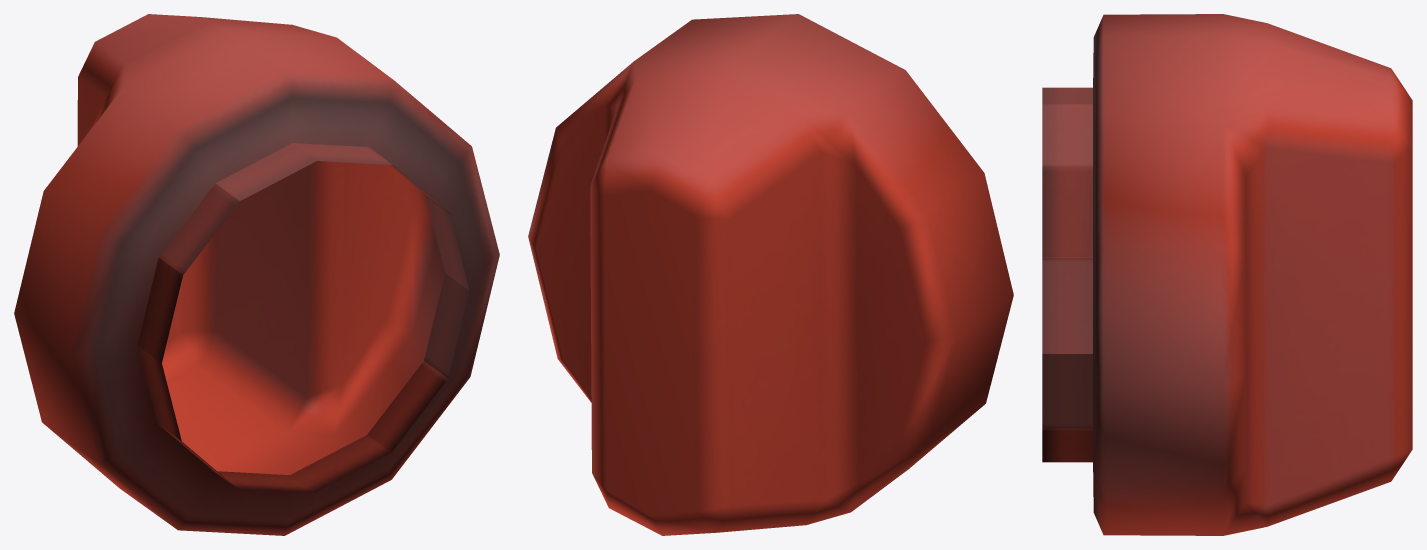
Rendered from JapaneseRestaurant_GrillHandle.fbx.
3 renders of one model, left to right at view 1: azimuth 30°, elevation 25°; view 2: azimuth 150°, elevation 25°; view 3: azimuth 270°, elevation 25°, orthographic. The views are drawn at different scales.
Parts seen in each view (by area): view 1: JapaneseRestaurant_GrillHandle; view 2: JapaneseRestaurant_GrillHandle; view 3: JapaneseRestaurant_GrillHandle.
Boxes of the visible parts, bbox=[...] form: JapaneseRestaurant_GrillHandle: bbox=[14, 14, 499, 535]; JapaneseRestaurant_GrillHandle: bbox=[528, 14, 1013, 535]; JapaneseRestaurant_GrillHandle: bbox=[1042, 14, 1412, 535].
Bounding box in the file's own units: 4.77 × 4.91 × 3.45.
